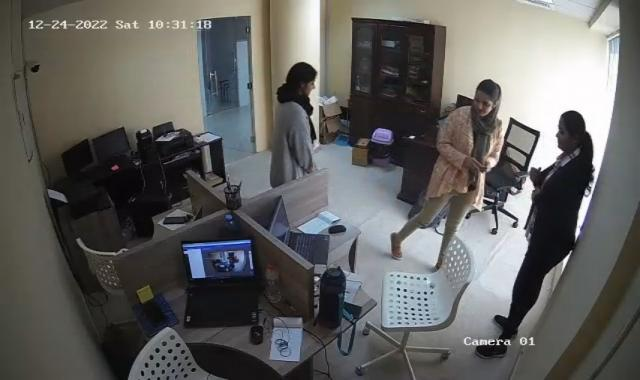no_hairnet: (552, 111, 590, 153), (282, 60, 322, 99), (473, 76, 501, 121)
